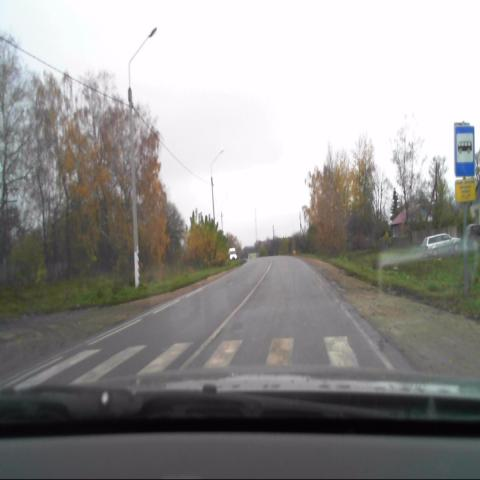5_16: (456, 124, 474, 176)
